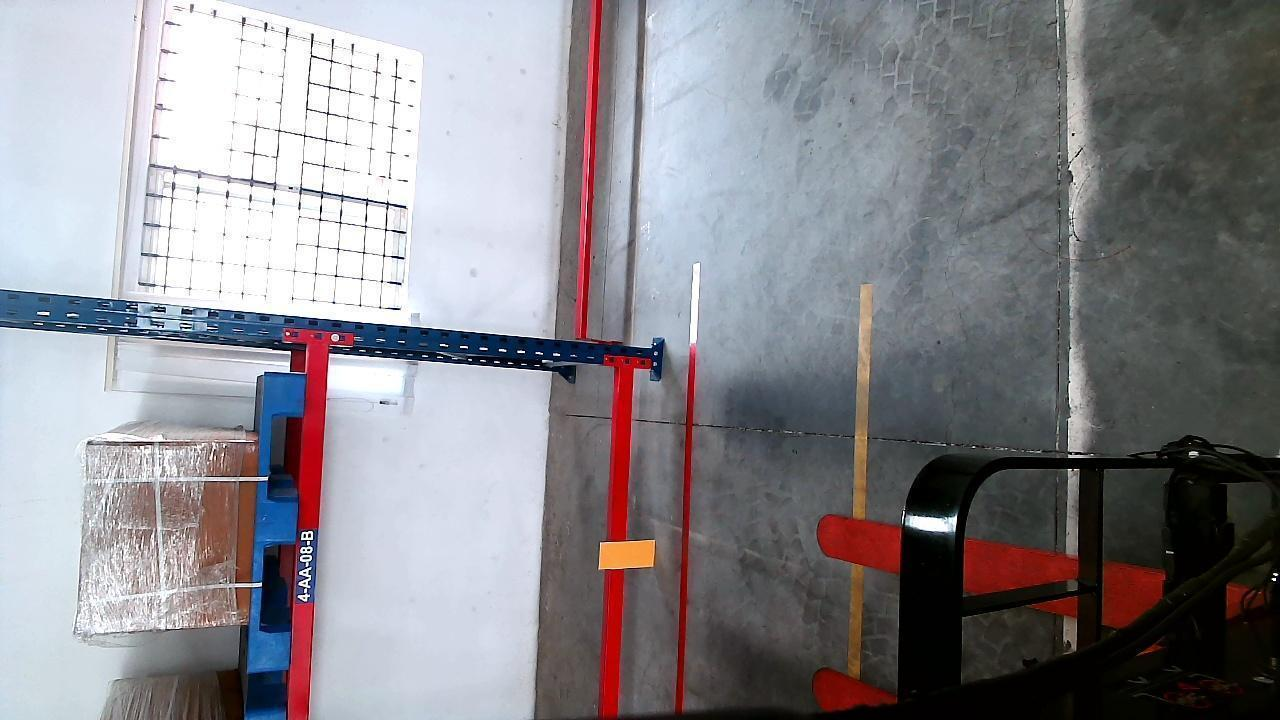red_line: (673, 258, 700, 712)
yellow_line: (848, 281, 872, 679)
